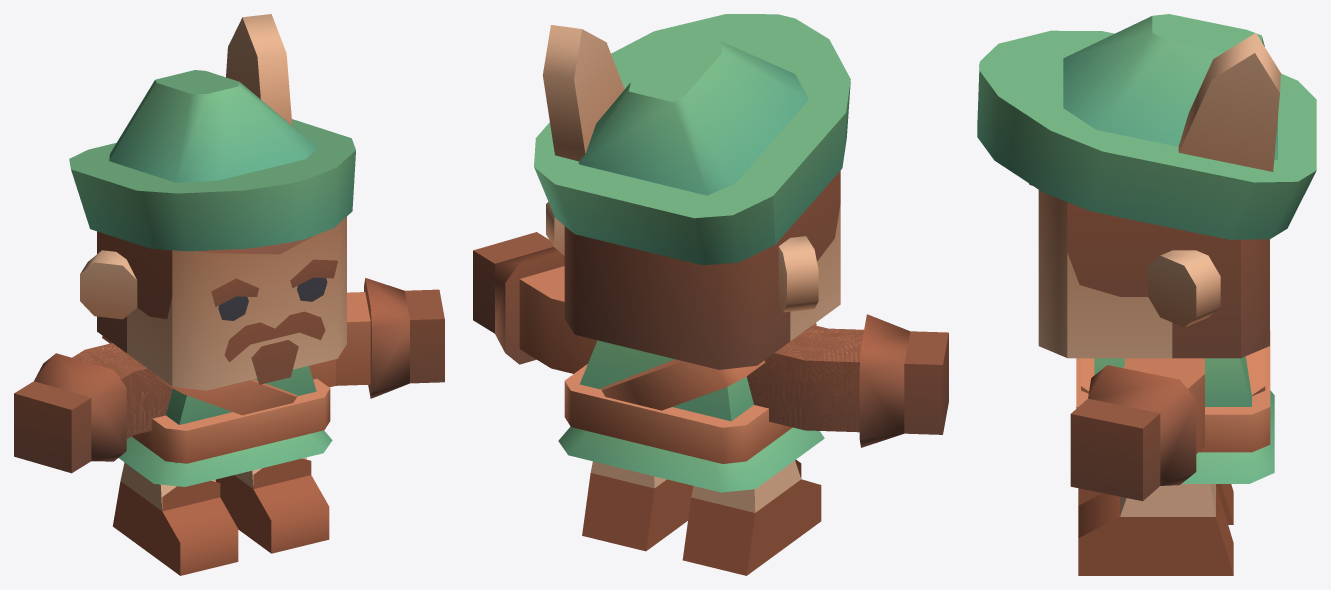
File: character-archer.obj
The picture shows the model from 3 angles, left to right: view 1: azimuth 30°, elevation 25°; view 2: azimuth 150°, elevation 25°; view 3: azimuth 270°, elevation 25°; orthographic projection. The views are drawn at different scales.
Visible parts, largest first — view 1: head-mesh, body-mesh; view 2: head-mesh, body-mesh; view 3: head-mesh, body-mesh.
Part boxes in pixels (bbox=[...]): head-mesh: bbox=[69, 14, 355, 390]; body-mesh: bbox=[14, 278, 444, 575]; head-mesh: bbox=[534, 14, 850, 369]; body-mesh: bbox=[473, 232, 948, 575]; head-mesh: bbox=[977, 14, 1316, 358]; body-mesh: bbox=[1070, 330, 1274, 575].
Size of the model in its own units: 0.7806 by 0.821 by 0.47.
Materials: 1 (1 with a texture image).
